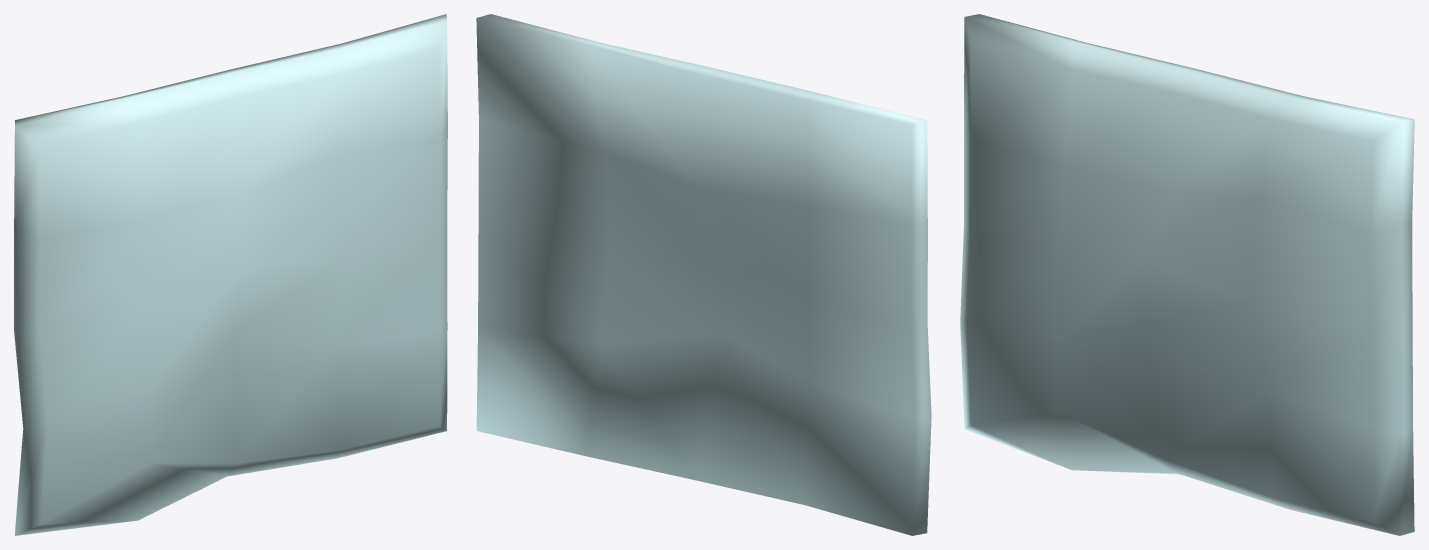
The model's file is Wall_03_Snow.fbx.
3 views of the same model, side by side, from view 1: azimuth 30°, elevation 25°; view 2: azimuth 150°, elevation 25°; view 3: azimuth 330°, elevation 25° (orthographic).
Visible parts, largest first — view 1: Plane.065; view 2: Plane.065; view 3: Plane.065.
Boxes of the visible parts, x1=… form: Plane.065: x1=14, y1=14, x2=447, y2=535; Plane.065: x1=476, y1=14, x2=931, y2=535; Plane.065: x1=960, y1=14, x2=1414, y2=535.
Bounding box in the file's own units: 336 × 304 × 47.22.
